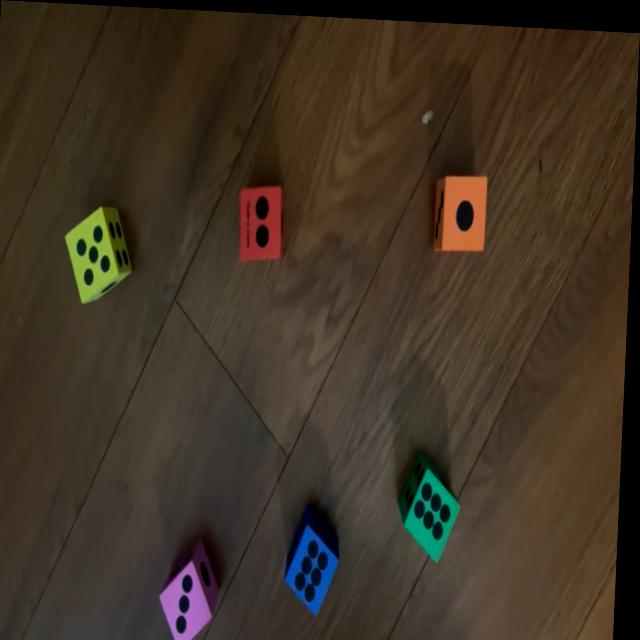cube: (290, 495, 348, 613), (402, 453, 465, 553), (237, 181, 290, 262)
